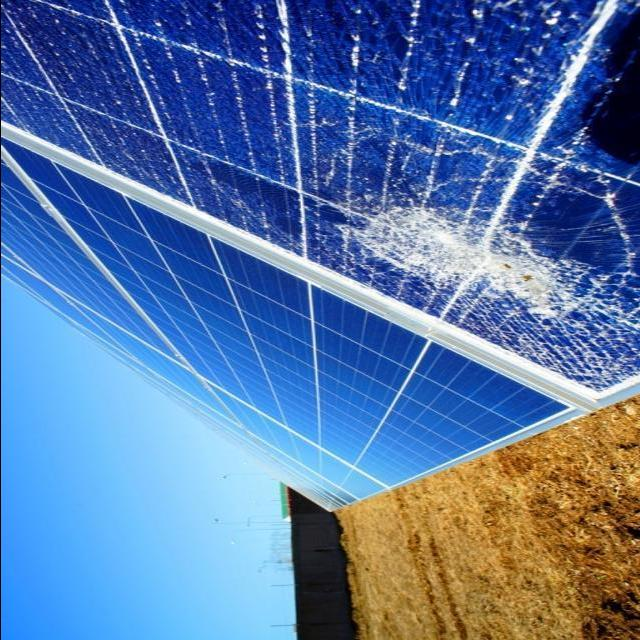cracked: (1, 0, 640, 397)
